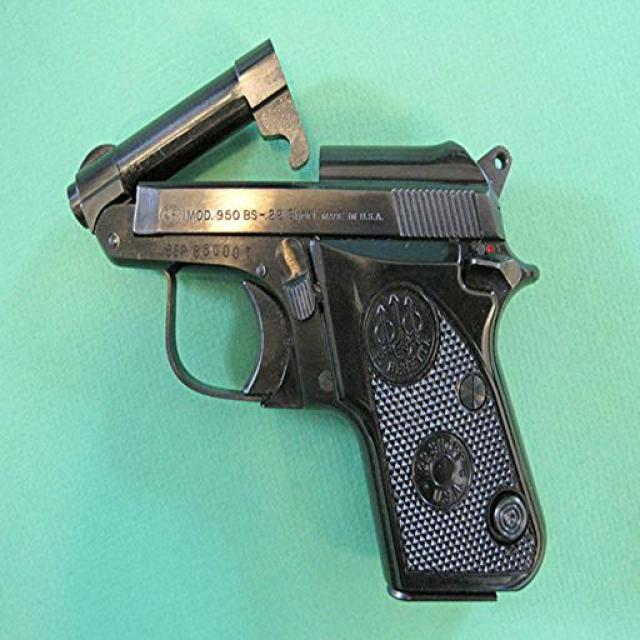pistol: (67, 36, 550, 608)
